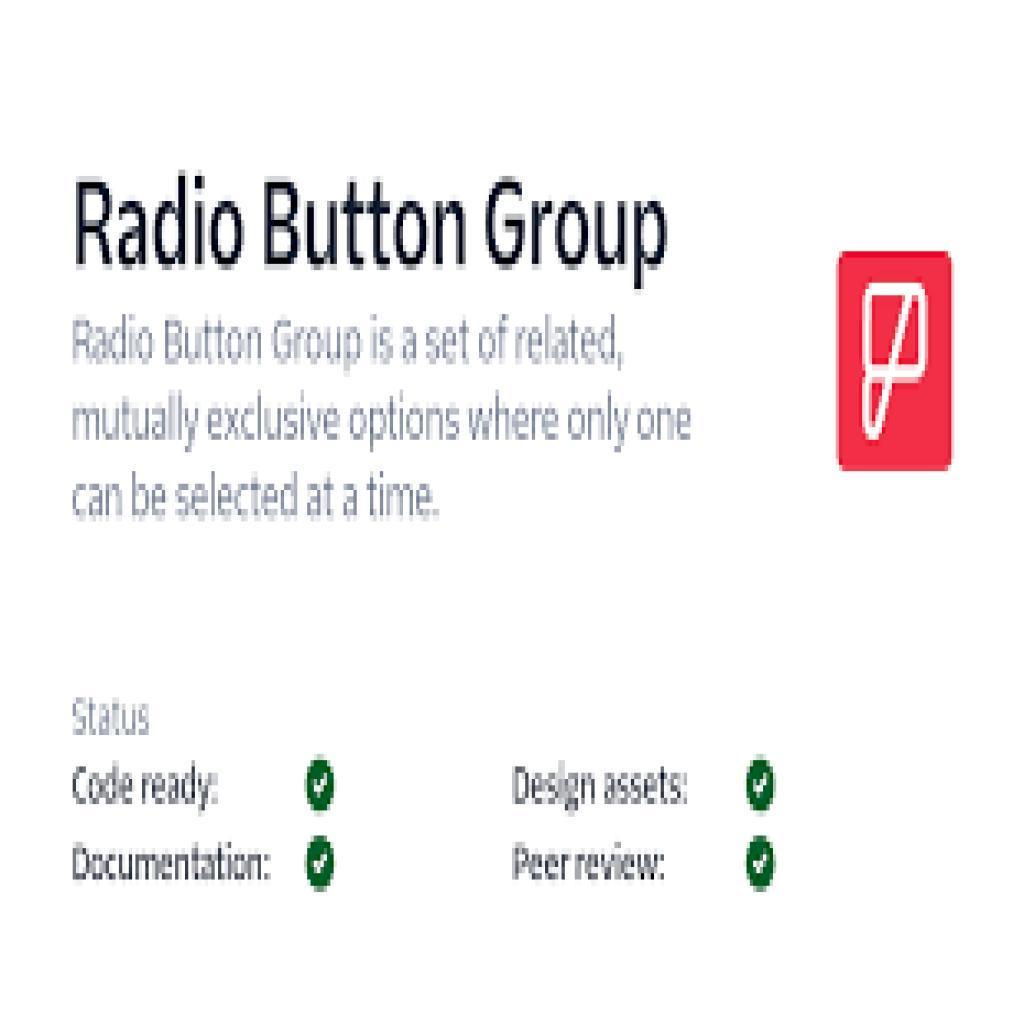label: (511, 755, 698, 816), (72, 838, 277, 883), (67, 761, 225, 819), (511, 841, 672, 892), (74, 695, 152, 741)
radio: (745, 755, 782, 817), (744, 835, 778, 893), (304, 837, 338, 894), (308, 760, 339, 814)
